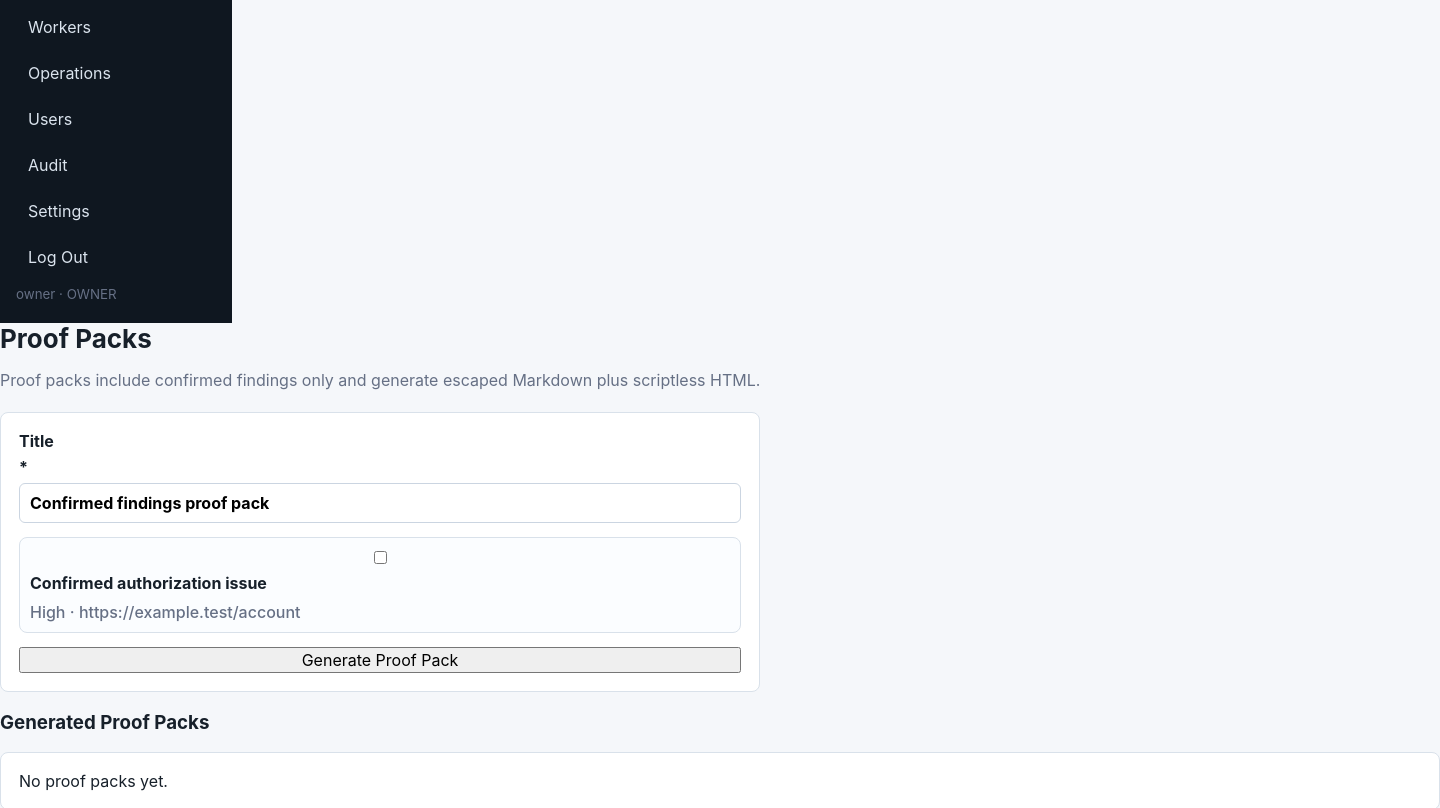
Test case: RouteCairn dashboard UI › generates a proof pack with a safe default title and selected confirmed finding
This screenshot has width=1440, height=808.
(page scrolled)
Click the checkbox labelled "Confirmed authorization issue": (380, 558) [34,551,727,564]
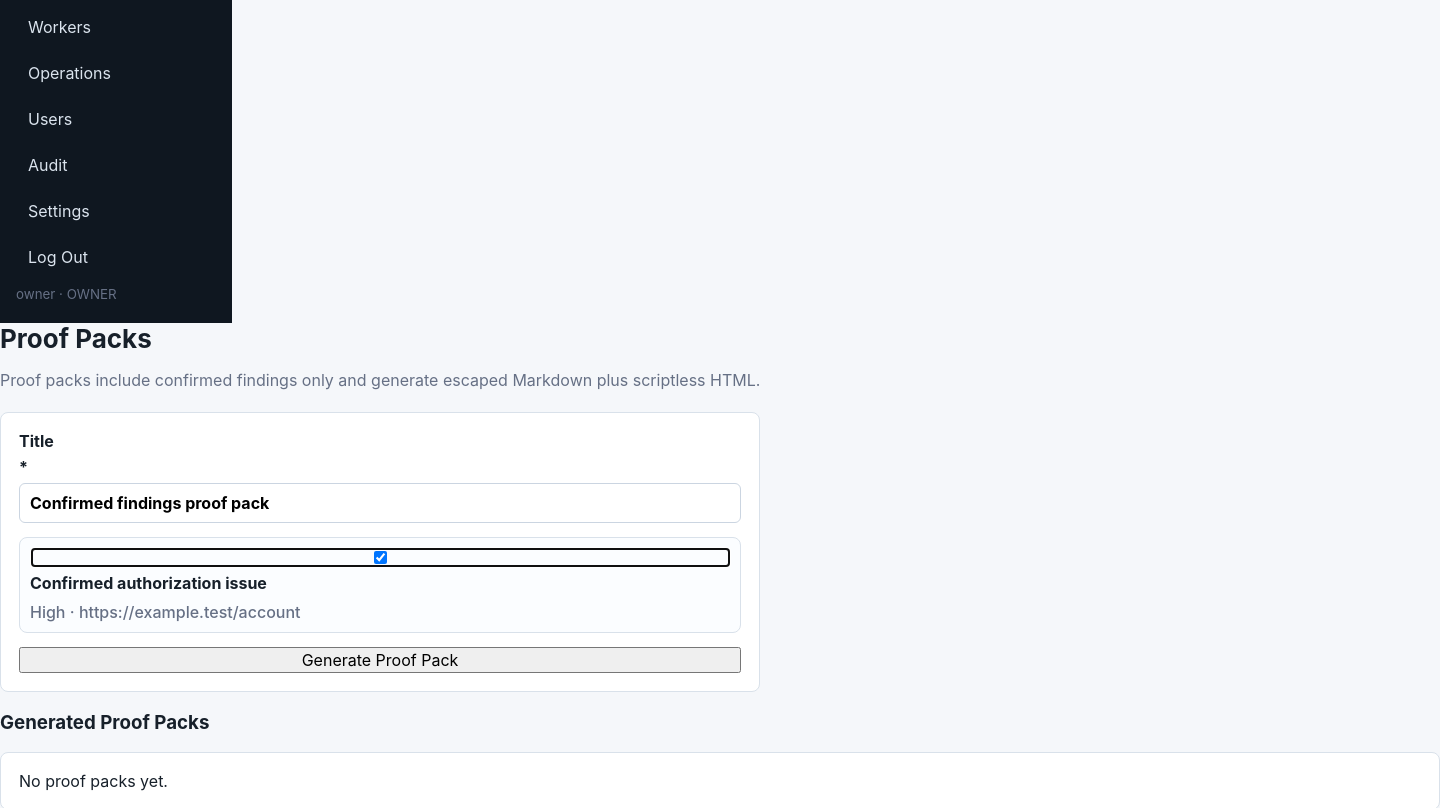
Click the button "Generate Proof Pack": (380, 660) [19,647,741,673]
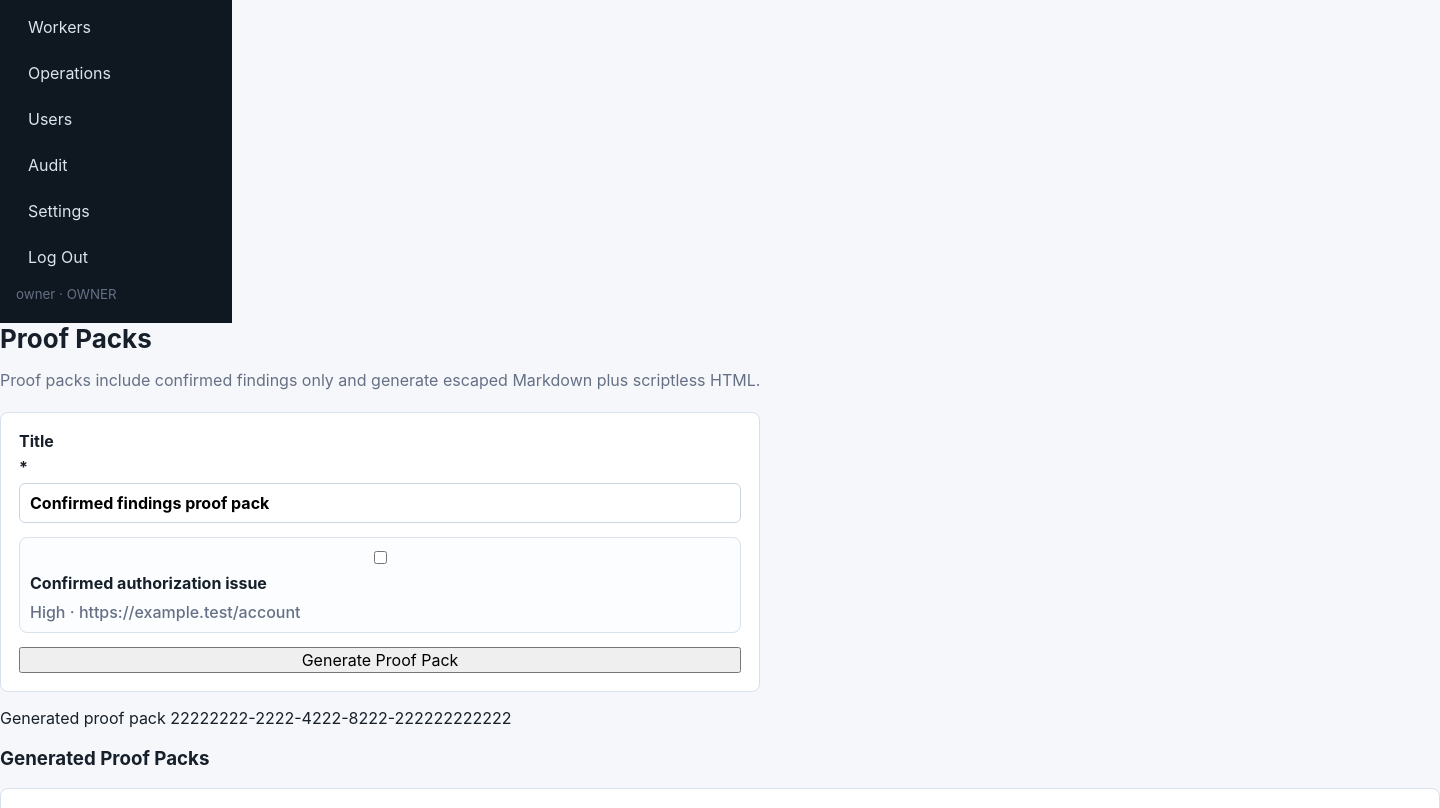
Now the text "Generated proof pack 22222222-2222-4222-8222-222222222222" is shown, box [0,708,512,728]
